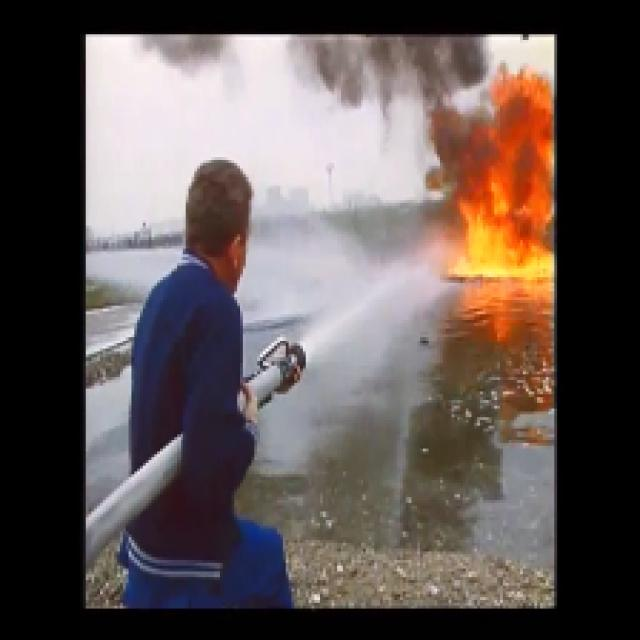fire: (456, 77, 557, 277)
smoke: (291, 36, 455, 100)
